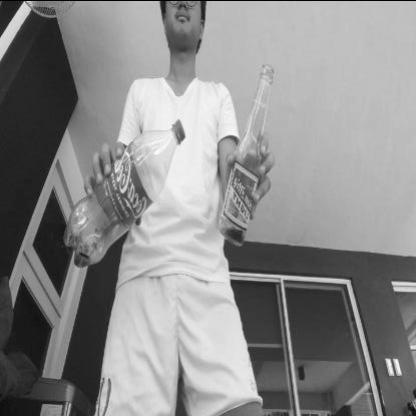plastic_bottles: (62, 114, 185, 268)
